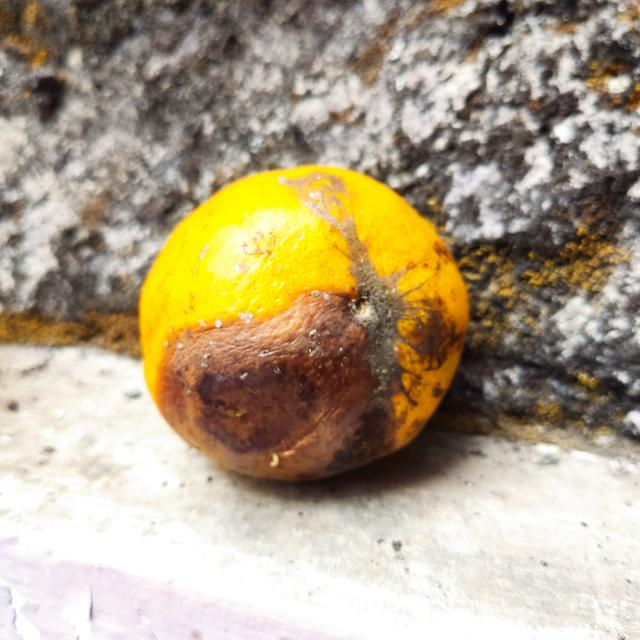orange: (136, 166, 467, 484)
